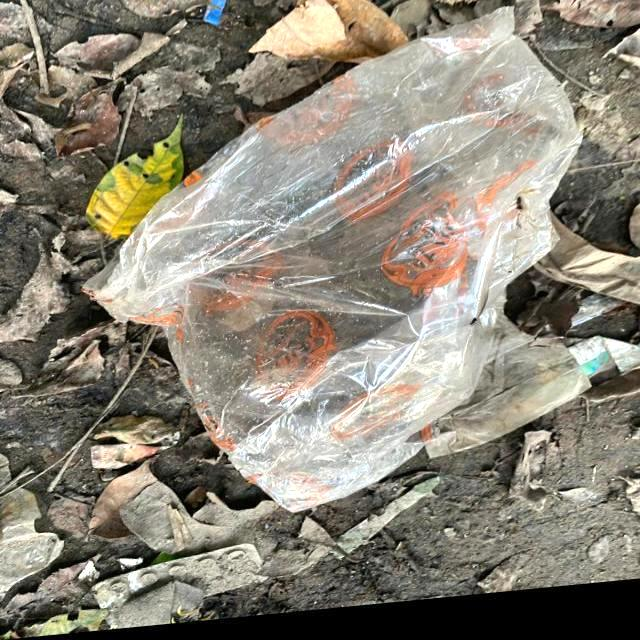polythene: (114, 44, 605, 514)
